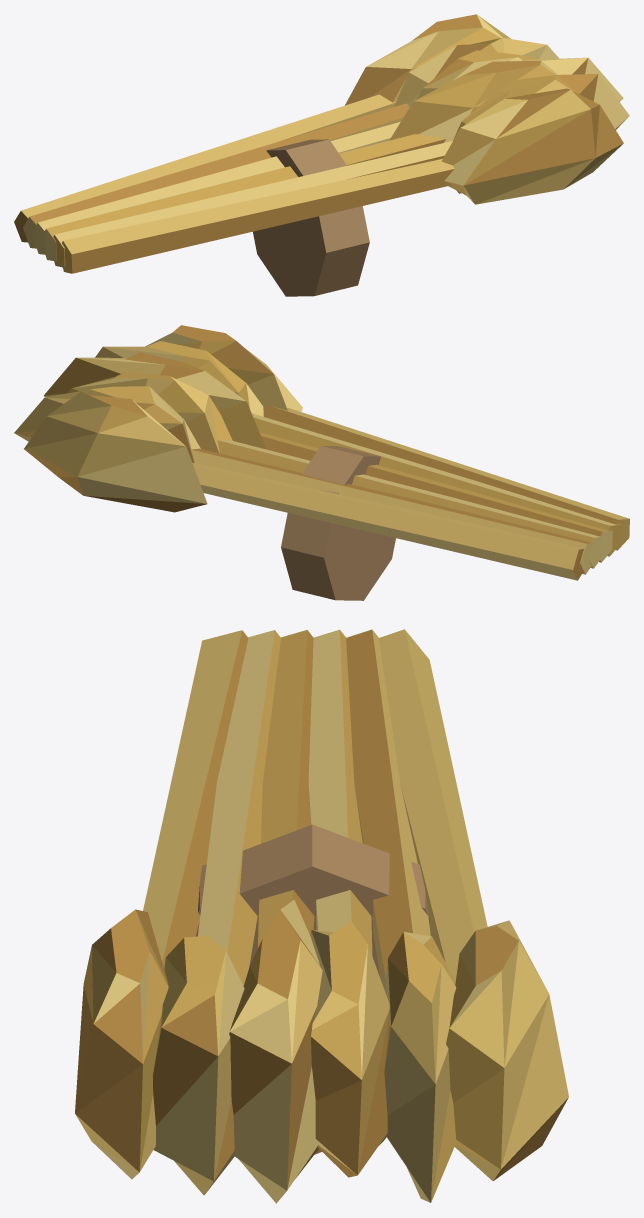
Rendered from farm-wheat-harvest.glb.
The picture shows the model from 3 angles, top to bottom: view 1: azimuth 30°, elevation 25°; view 2: azimuth 150°, elevation 25°; view 3: azimuth 270°, elevation 25°; orthographic projection. The views are drawn at different scales.
Visible parts, largest first — view 1: farm-wheat-harvest; view 2: farm-wheat-harvest; view 3: farm-wheat-harvest.
Boxes of the visible parts, x1=… form: farm-wheat-harvest: x1=14, y1=14, x2=629, y2=296; farm-wheat-harvest: x1=14, y1=325, x2=629, y2=600; farm-wheat-harvest: x1=75, y1=629, x2=568, y2=1203.
Size of the model in its own units: 0.4338 by 0.1367 by 0.1642.
